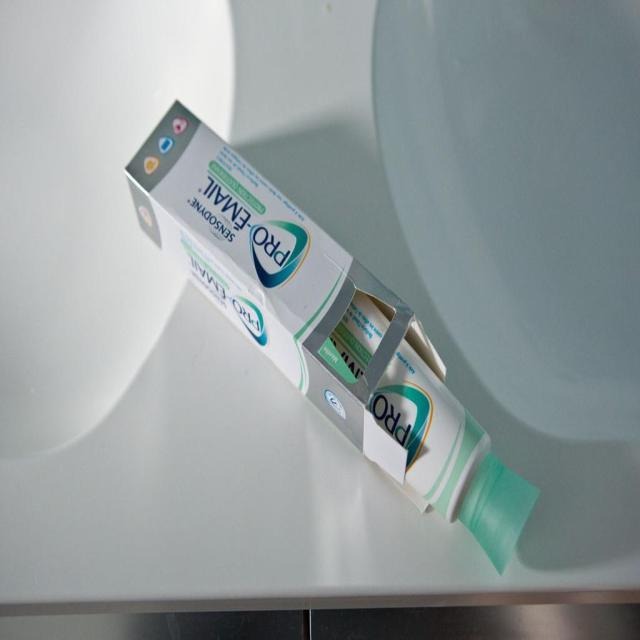Toothpaste: (108, 90, 548, 578)
